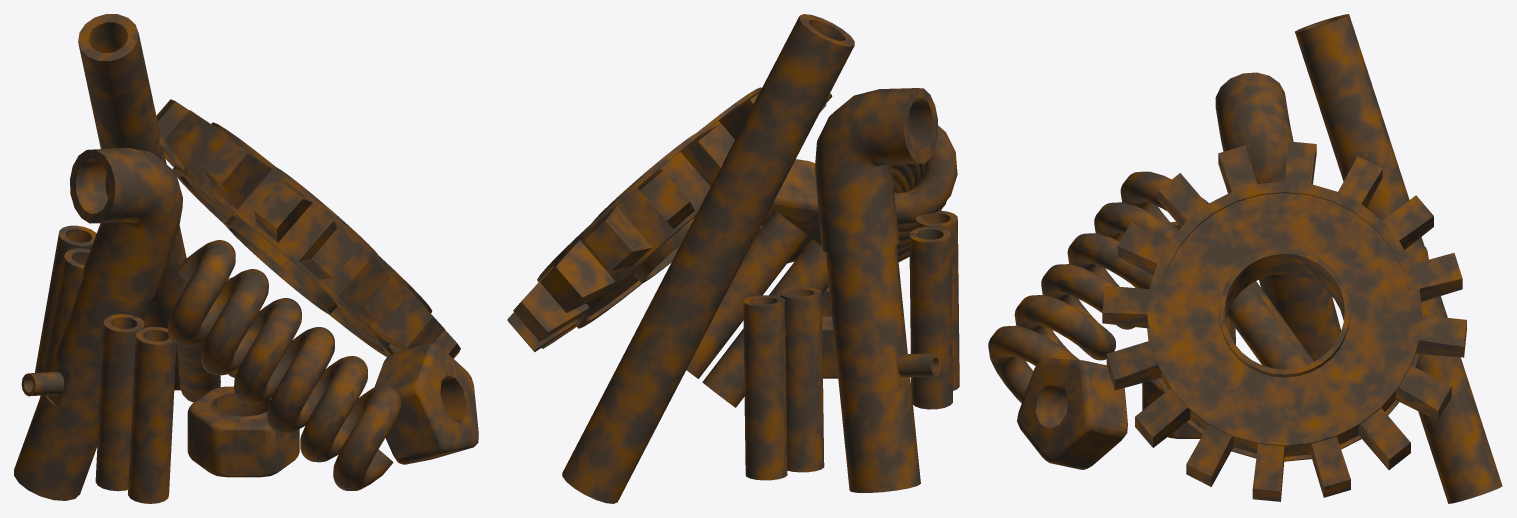
File: details.fbx
3 views of the same model, side by side, from view 1: azimuth 30°, elevation 25°; view 2: azimuth 150°, elevation 25°; view 3: azimuth 270°, elevation 25° (orthographic). The views are drawn at different scales.
Parts seen in each view (by area): view 1: screw; view 2: screw; view 3: screw.
Boxes of the visible parts, box(x1,y1,x2,y2) form: screw: box(14, 14, 478, 503); screw: box(507, 14, 959, 503); screw: box(988, 14, 1502, 503).
Bounding box in the file's own units: 722 × 797 × 867.
